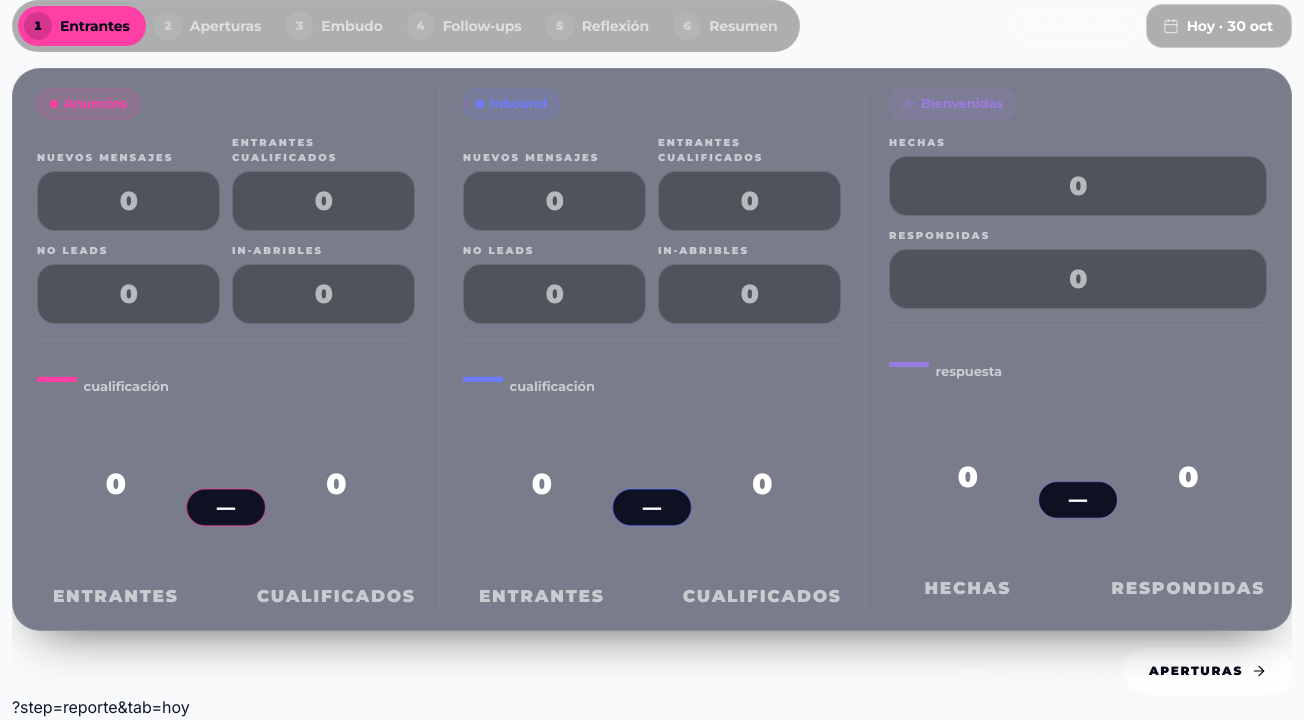
Test: ReporteDiario · los pasos › solo deja números
Type "1a2-3" into the field named "Anuncios, nuevos mensajes".
click(128, 201); type("1a2-3")  # box x1=38 y1=172 x2=219 y2=230
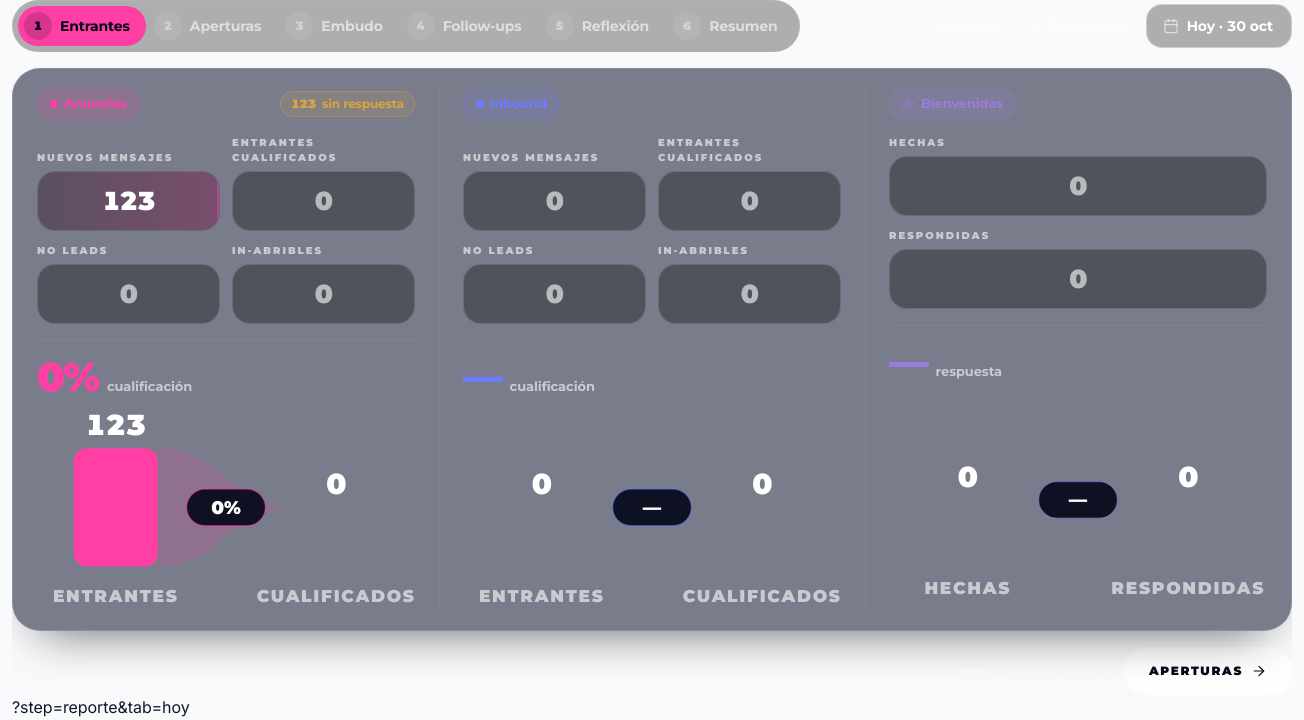
Check: the field named "Anuncios, nuevos mensajes" holds "123", box x1=38 y1=172 x2=219 y2=230
